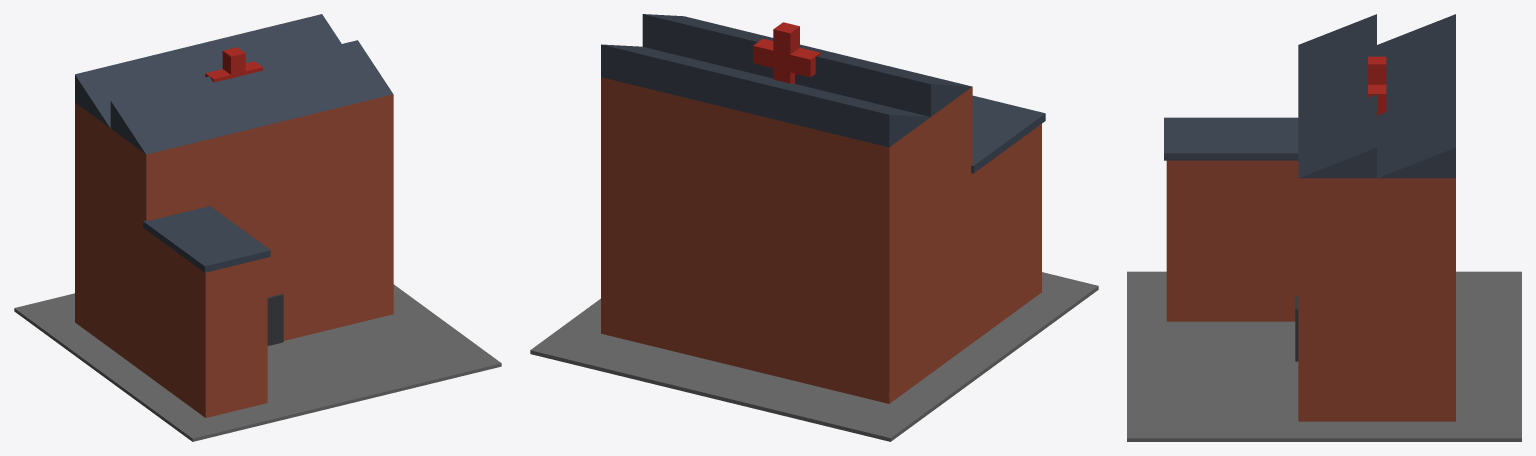
File: bld_special_hospital_a05_lod2.glb
3 renders of one model, left to right at view 1: azimuth 30°, elevation 25°; view 2: azimuth 150°, elevation 25°; view 3: azimuth 270°, elevation 25°, orthographic. The views are drawn at different scales.
Visible parts, largest first — view 1: body; view 2: body; view 3: body.
Part boxes in pixels (x1,y1,x2,y2): body: [14, 14, 501, 441]; body: [530, 14, 1098, 441]; body: [1127, 14, 1521, 441].
Size of the model in its own units: 15 by 12.5 by 15.
